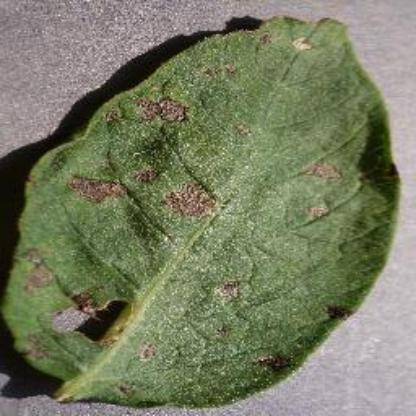Early-Blight: (6, 13, 404, 409)
